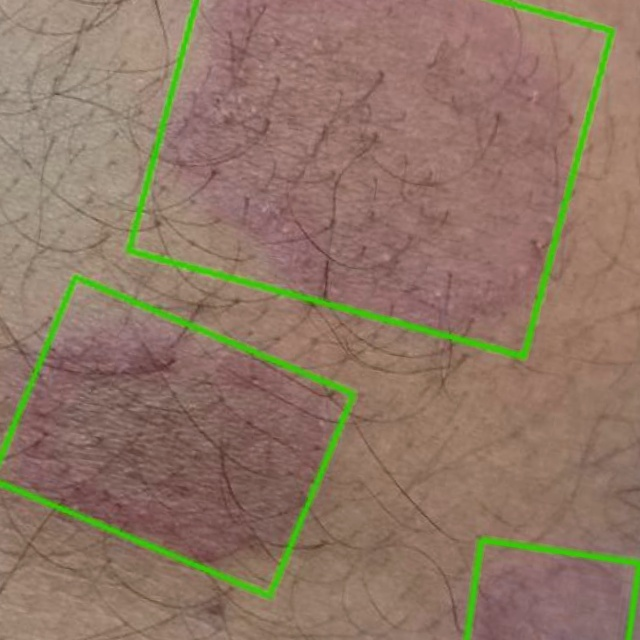Eczema: (127, 0, 611, 357), (0, 277, 353, 596)
